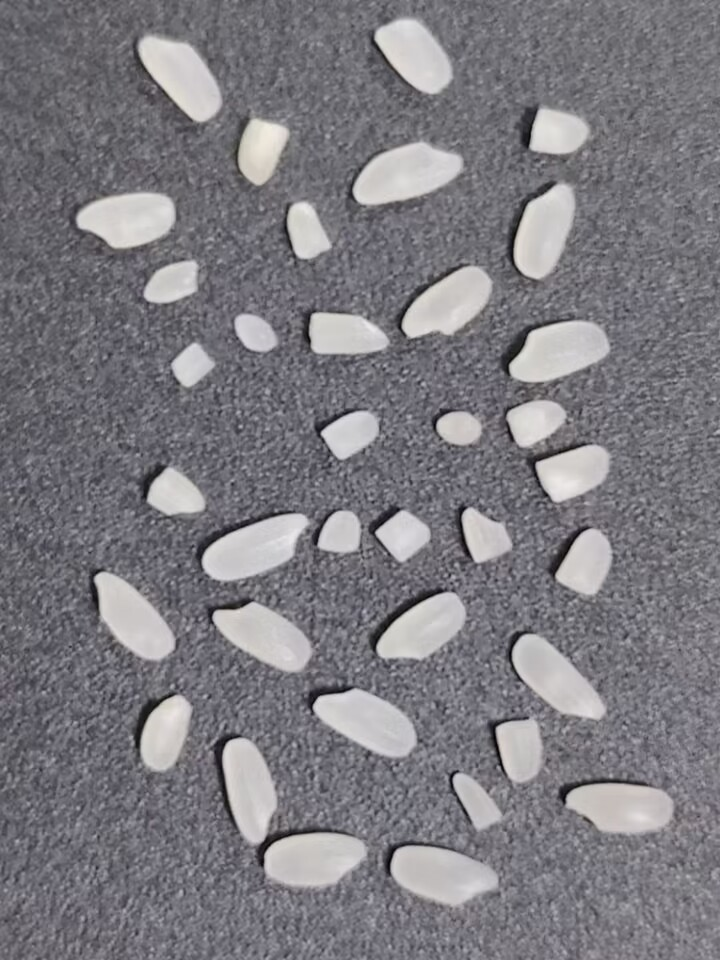broken: (552, 525, 625, 599), (533, 440, 613, 505), (486, 715, 551, 793), (304, 306, 396, 357), (136, 694, 191, 773), (447, 765, 505, 837), (141, 462, 212, 519), (372, 504, 435, 568), (235, 115, 290, 187), (319, 405, 382, 463), (503, 396, 570, 450), (458, 505, 514, 566), (525, 104, 590, 156), (315, 504, 367, 562), (283, 199, 331, 261), (164, 339, 220, 391), (142, 258, 201, 305), (429, 406, 486, 450), (229, 310, 280, 358)
rice: (87, 569, 180, 667), (132, 31, 224, 126), (309, 683, 420, 759), (512, 633, 607, 720), (209, 598, 313, 674), (202, 512, 311, 582), (351, 140, 466, 206), (367, 590, 467, 663), (218, 735, 282, 846), (389, 843, 500, 905), (506, 318, 609, 384), (260, 828, 370, 889), (371, 17, 453, 98), (512, 180, 578, 280), (402, 264, 491, 338), (70, 190, 178, 250), (562, 782, 682, 836)
